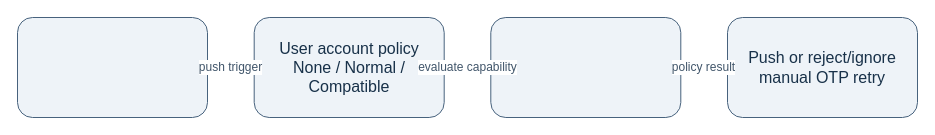
The diagram is 935 pixels wide and 135 high, and some of its shapes have lost their labels. The shapes that lost their labels are listed below. From the top down, each one's centre as x and y in pixels, then its label:
[112,67]: OTP-only user authentication request
[585,67]: Push supported? account capability
